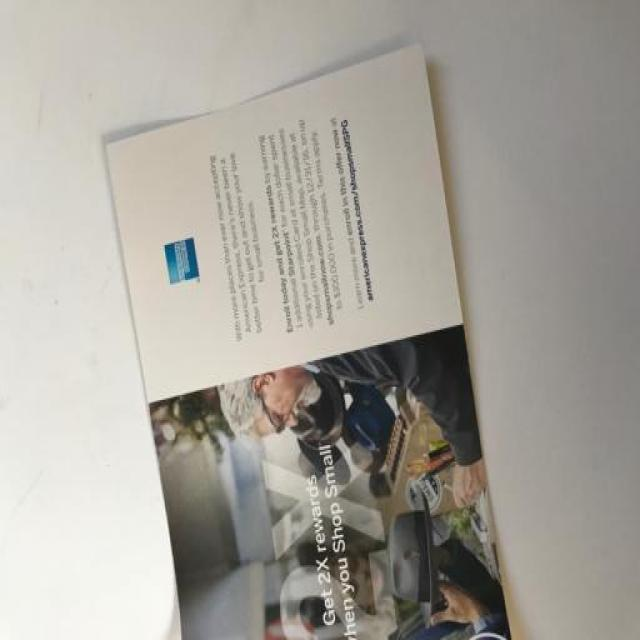paper: (82, 21, 576, 640)
